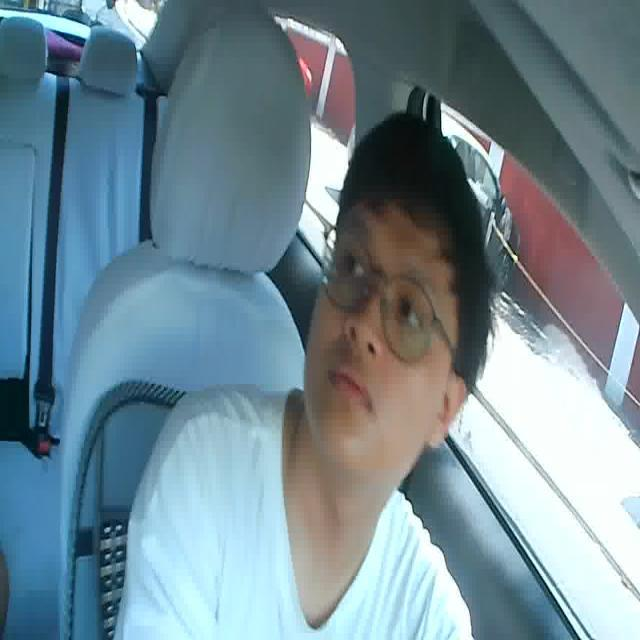Eye-Open: (338, 244, 374, 289), (395, 293, 431, 338)
Inattentive: (303, 112, 494, 464)
Normal: (326, 362, 379, 414)
